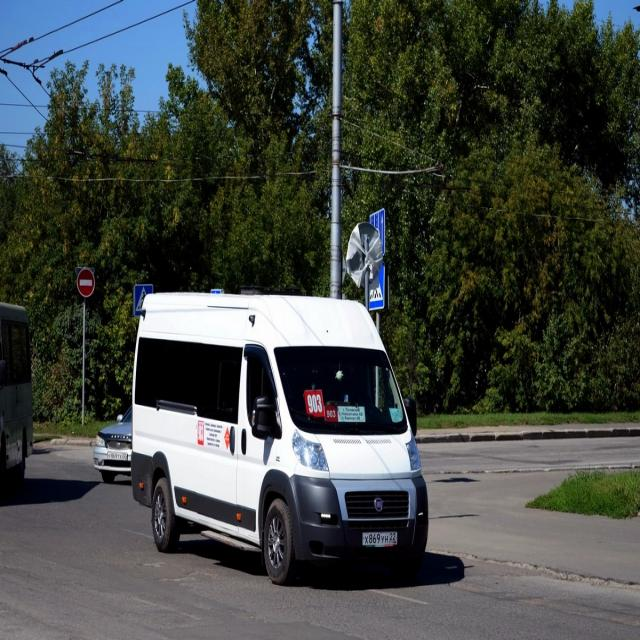number-of-bus: (307, 393, 325, 417), (328, 410, 337, 421)
